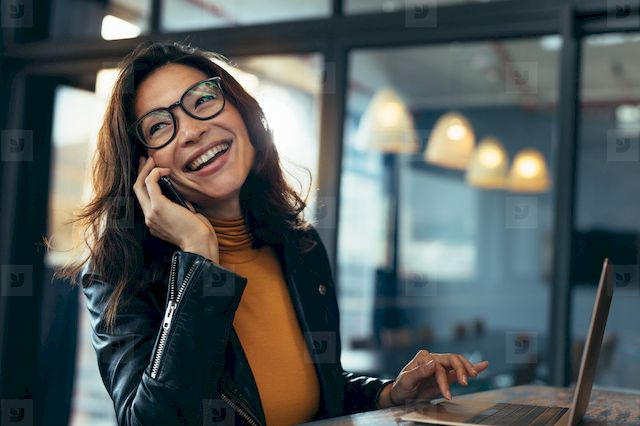phone: (140, 166, 194, 224)
talk: (128, 90, 253, 250)
